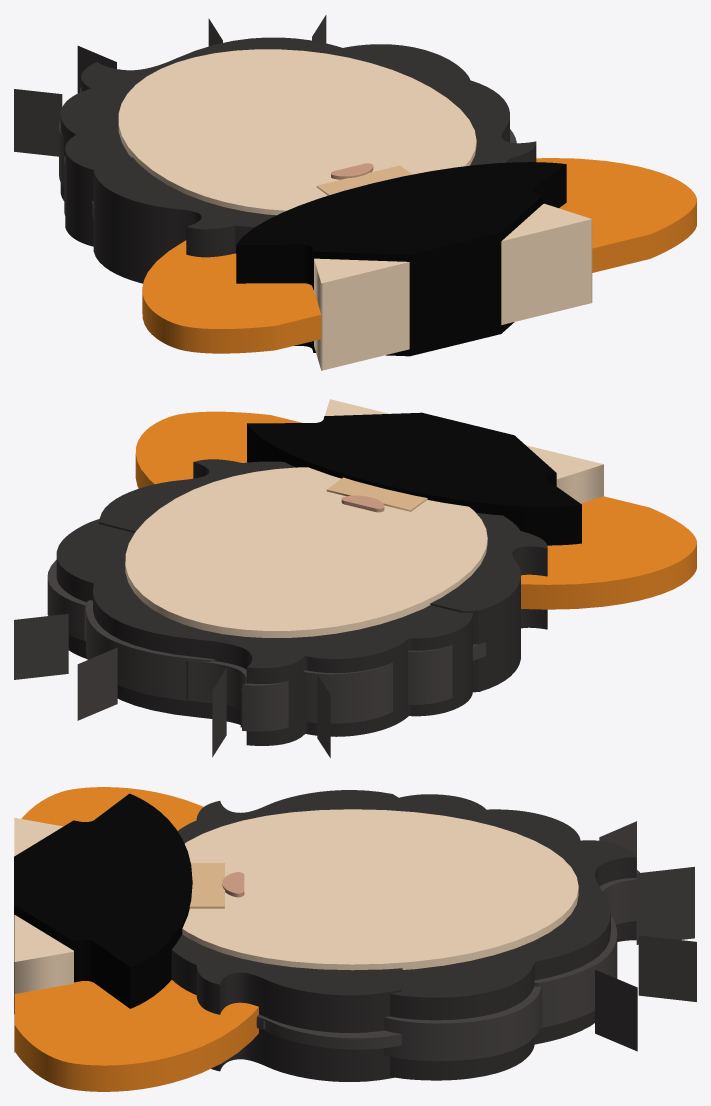
The model's file is emoji_u1f647_1f3fb.glb.
3 views of the same model, one above another, from view 1: azimuth 30°, elevation 25°; view 2: azimuth 150°, elevation 25°; view 3: azimuth 270°, elevation 25° (orthographic). The views are drawn at different scales.
Parts seen in each view (by area): view 1: emoji_u1f647_1f3fb; view 2: emoji_u1f647_1f3fb; view 3: emoji_u1f647_1f3fb.
Part boxes in pixels (left/top/right/bottom): emoji_u1f647_1f3fb: left=14, top=15, right=696, bottom=370; emoji_u1f647_1f3fb: left=14, top=399, right=696, bottom=757; emoji_u1f647_1f3fb: left=14, top=787, right=696, bottom=1091.
Bounding box in the file's own units: 0.0317 × 0.0058 × 0.0328.
